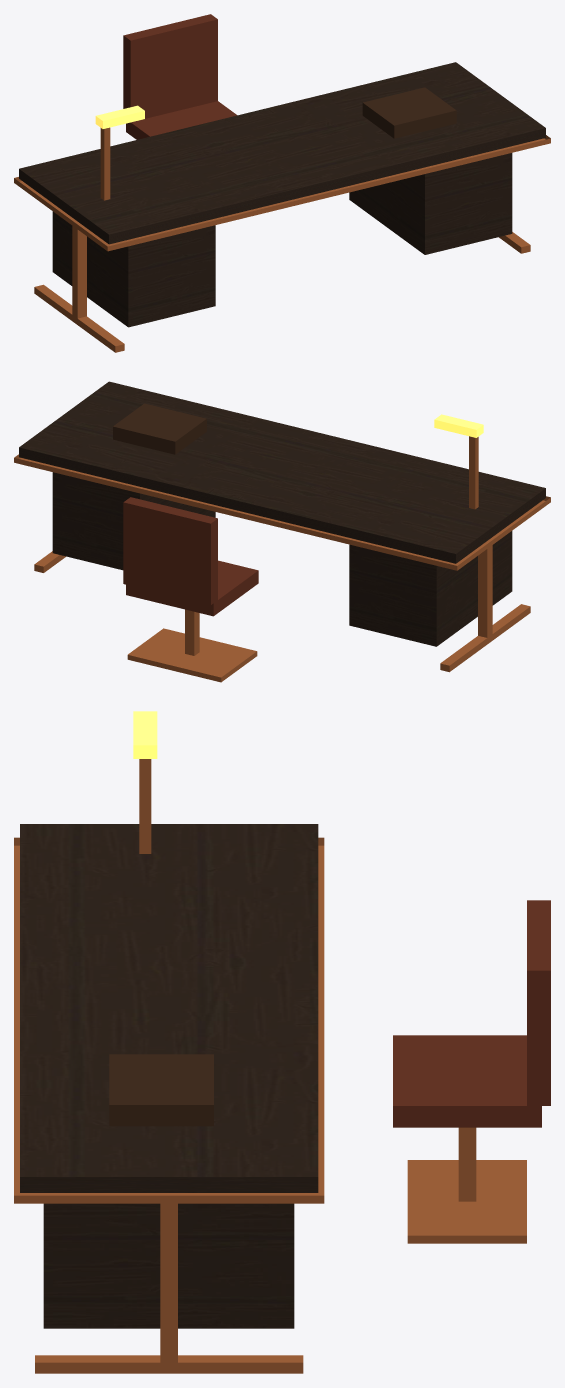
Rendered from desk.glb.
3 views of the same model, one above another, from view 1: azimuth 30°, elevation 25°; view 2: azimuth 150°, elevation 25°; view 3: azimuth 270°, elevation 25° (orthographic). The views are drawn at different scales.
Parts seen in each view (by area): view 1: desk; view 2: desk; view 3: desk.
Boxes of the visible parts, left/top/right/bottom form: desk: left=14, top=14, right=550, bottom=352; desk: left=14, top=381, right=550, bottom=682; desk: left=14, top=711, right=550, bottom=1373.
Size of the model in its own units: 2.84 by 1.26 by 1.8.
Materials: 5 (1 with a texture image).
